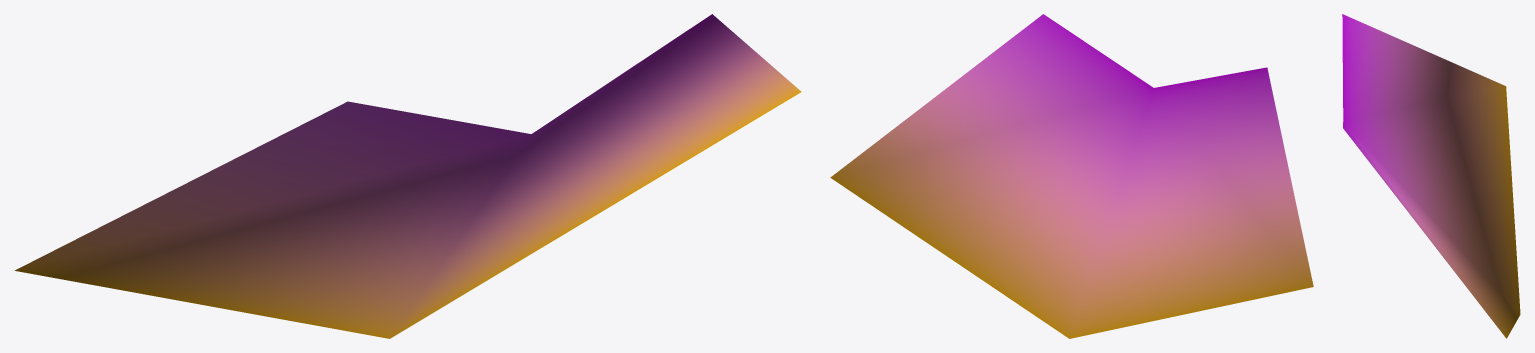
Rendered from presssd.glb.
The picture shows the model from 3 angles, left to right: view 1: azimuth 30°, elevation 25°; view 2: azimuth 150°, elevation 25°; view 3: azimuth 270°, elevation 25°; orthographic projection. The views are drawn at different scales.
Visible parts, largest first — view 1: PressSDown; view 2: PressSDown; view 3: PressSDown.
Boxes of the visible parts, left/top/right/bottom form: PressSDown: left=14, top=14, right=801, bottom=338; PressSDown: left=830, top=14, right=1313, bottom=338; PressSDown: left=1342, top=14, right=1520, bottom=338.
Size of the model in its own units: 0.3425 by 0.1598 by 0.1056.
